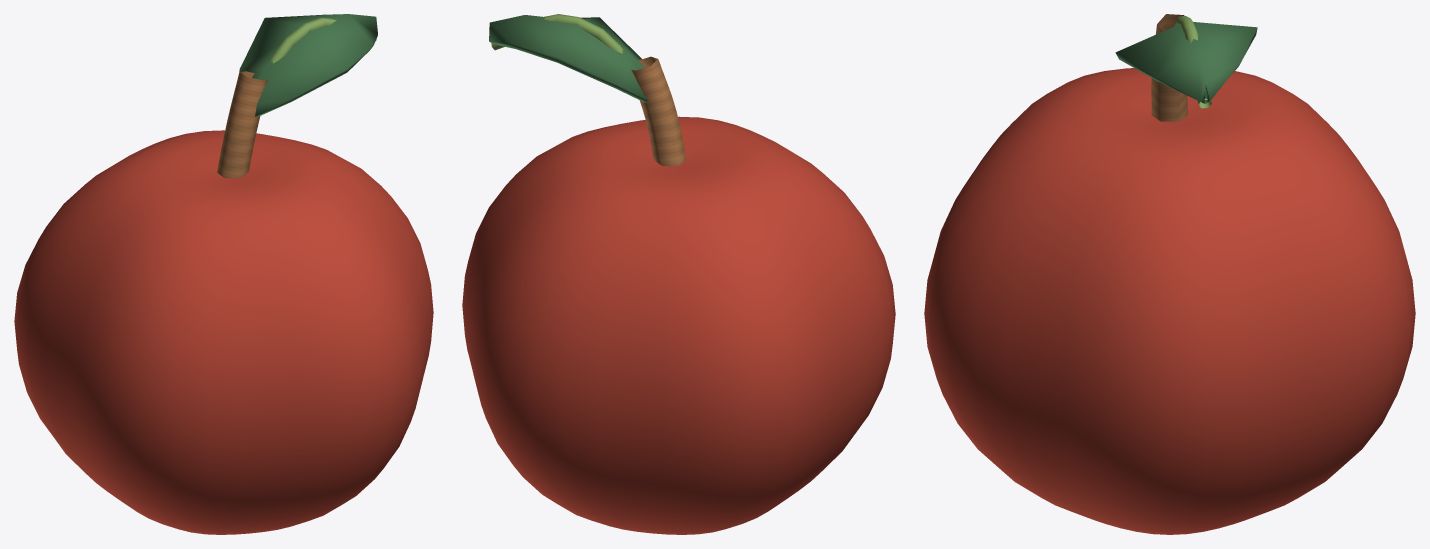
The model's file is apple.glb.
3 views of the same model, side by side, from view 1: azimuth 30°, elevation 25°; view 2: azimuth 150°, elevation 25°; view 3: azimuth 270°, elevation 25° (orthographic). The views are drawn at different scales.
Parts seen in each view (by area): view 1: Crafted_apple_red, Crafted_leaf, Crafted_wood, Crafted_lightleaf; view 2: Crafted_apple_red, Crafted_leaf, Crafted_wood, Crafted_lightleaf; view 3: Crafted_apple_red, Crafted_leaf, Crafted_wood.
Part boxes in pixels (x1=…): Crafted_apple_red: x1=14, y1=130, x2=433, y2=534; Crafted_leaf: x1=239, y1=14, x2=377, y2=116; Crafted_wood: x1=217, y1=71, x2=267, y2=178; Crafted_lightleaf: x1=269, y1=17, x2=376, y2=63; Crafted_apple_red: x1=462, y1=116, x2=895, y2=534; Crafted_leaf: x1=489, y1=15, x2=648, y2=102; Crafted_wood: x1=631, y1=56, x2=685, y2=165; Crafted_lightleaf: x1=491, y1=14, x2=623, y2=53; Crafted_apple_red: x1=924, y1=68, x2=1415, y2=534; Crafted_leaf: x1=1115, y1=22, x2=1257, y2=103; Crafted_wood: x1=1151, y1=14, x2=1187, y2=121.
Bounding box in the file's own units: 0.4803 × 0.593 × 0.4892.
Materials: 4 (1 with a texture image).
